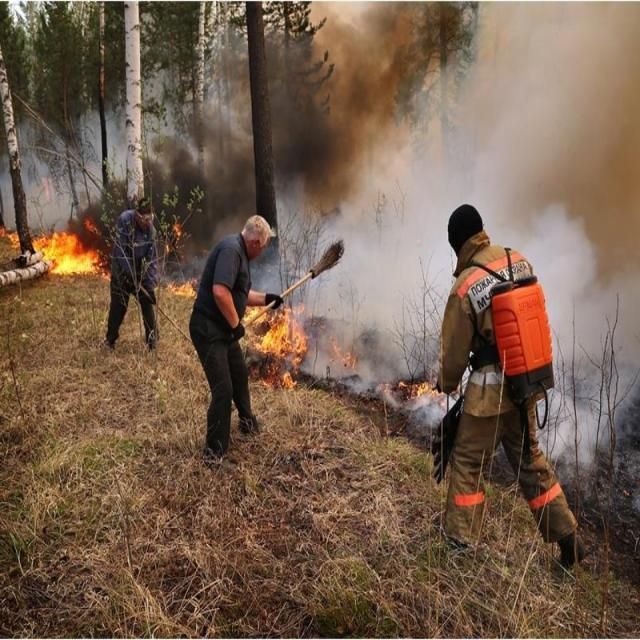Fire: (0, 224, 110, 274), (254, 308, 308, 388), (327, 334, 358, 370), (396, 378, 440, 402), (172, 277, 198, 297)
Smoke: (0, 0, 640, 488)
